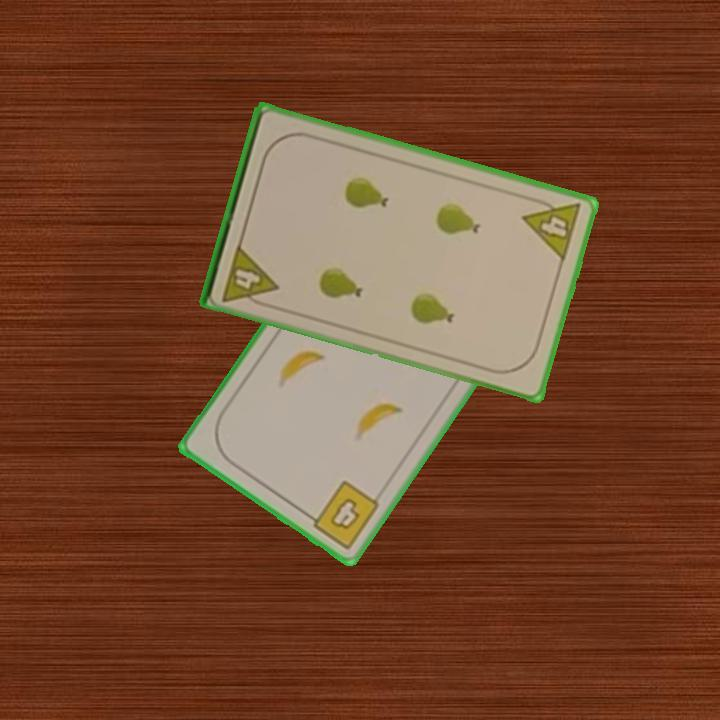4b: (301, 477, 383, 553)
4p: (519, 192, 585, 264), (218, 240, 281, 311)
